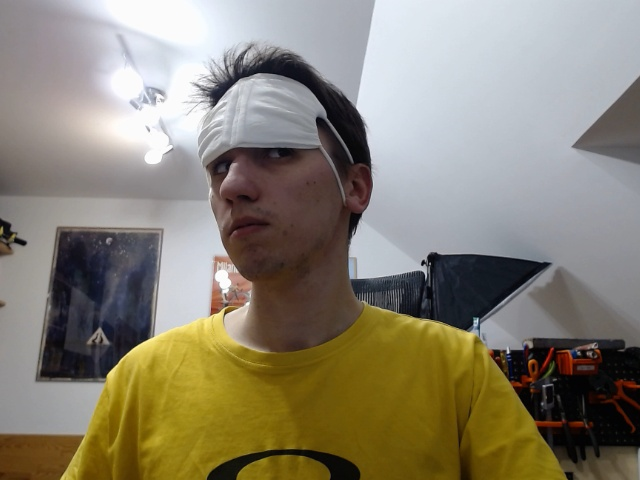WrongMask: (193, 54, 377, 288)
